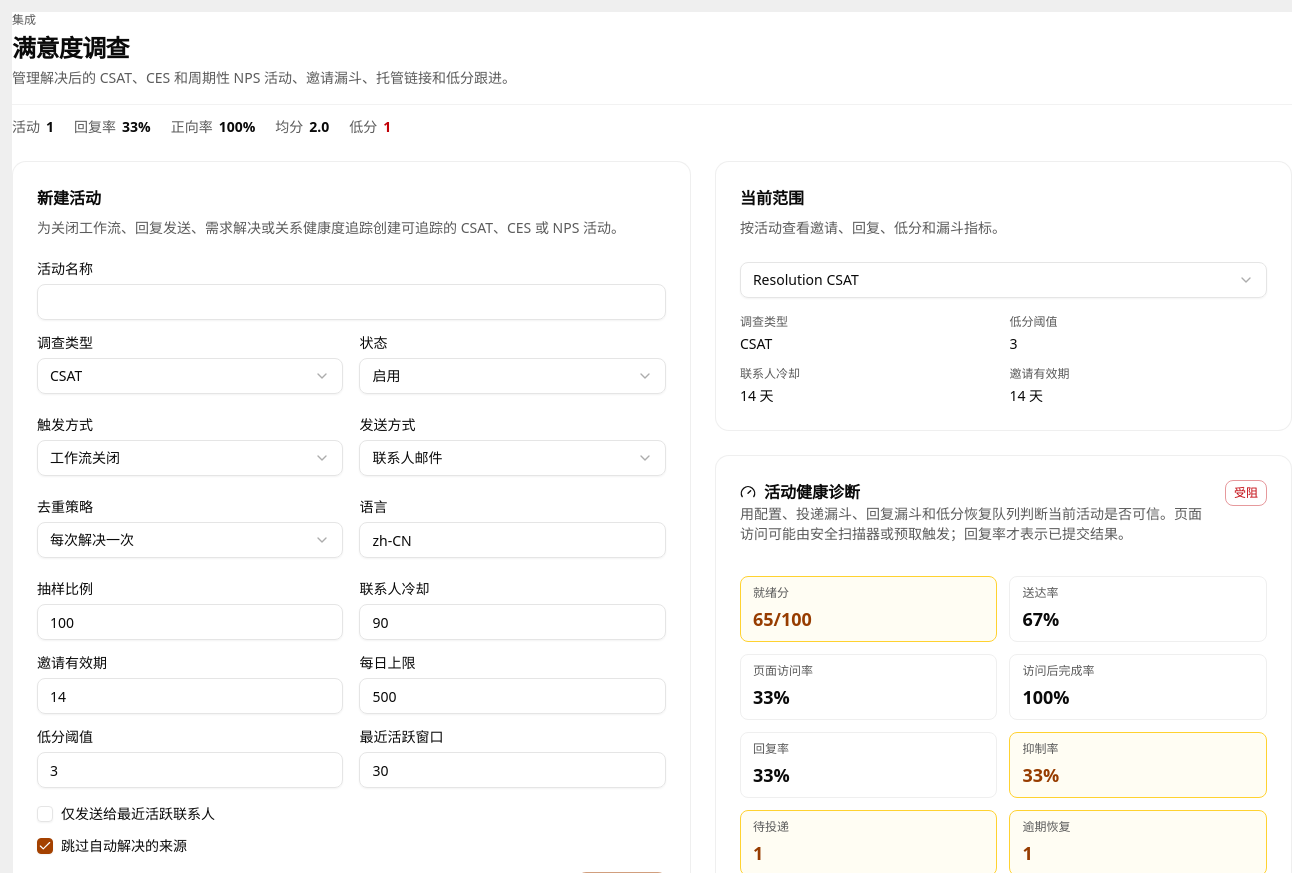
Test: SurveysPage › keeps NPS audience data separate from a warm cohort-management cache
Step 1. Click the dropdown with test id "survey-type" → (66, 376), box top-left (37, 358), bottom-right (344, 394)
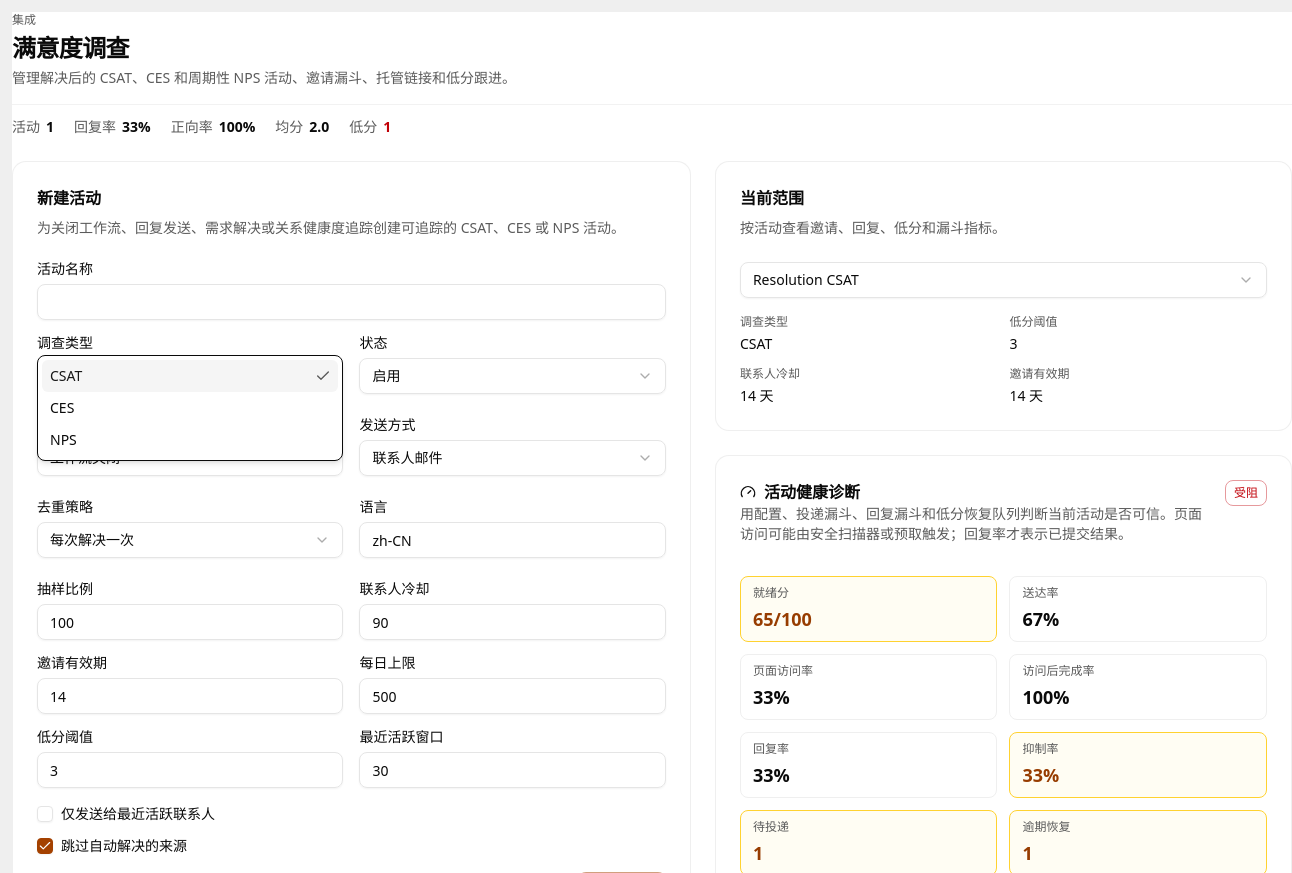
Step 2. Click the option "NPS" → (63, 440), box top-left (50, 430), bottom-right (77, 449)
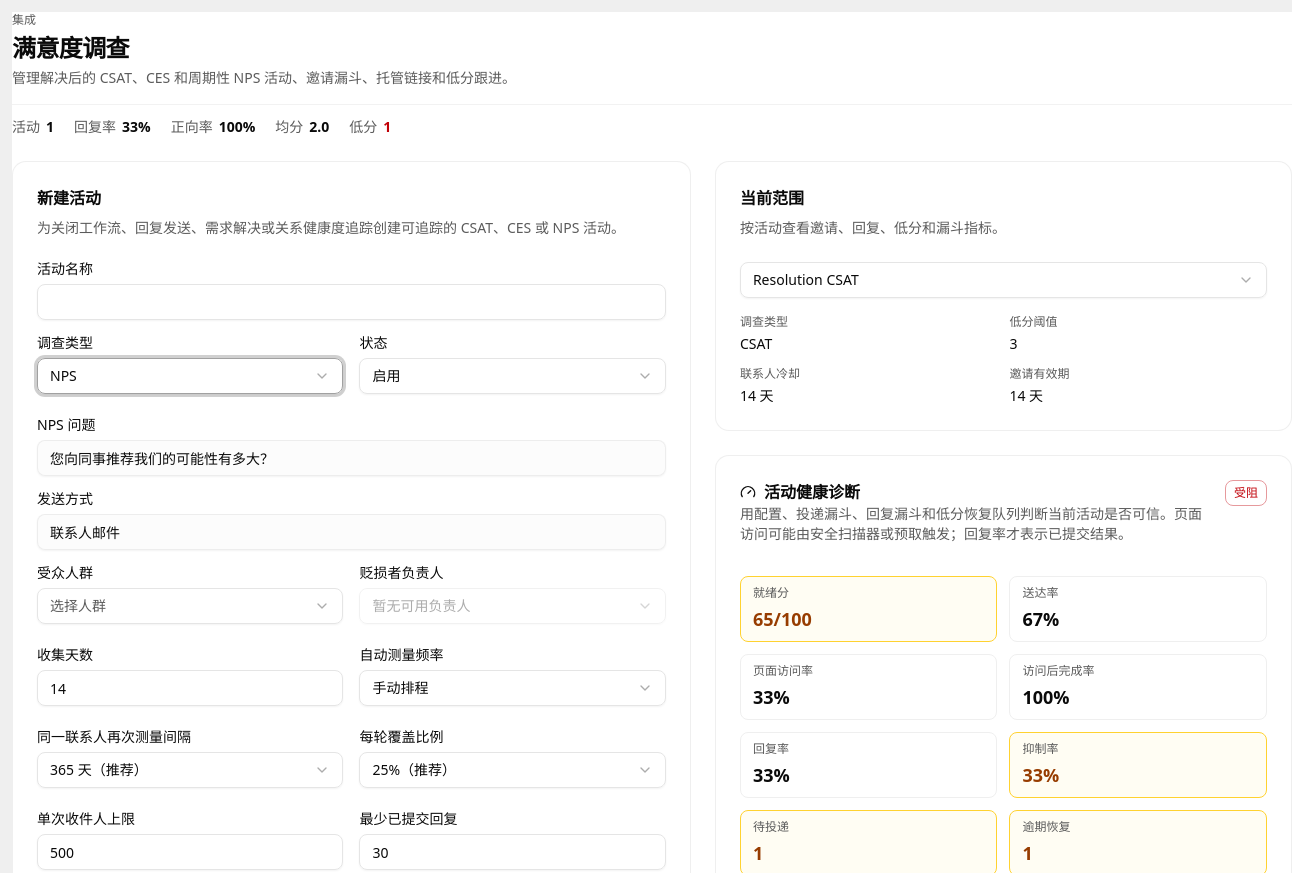
Step 3. Click the dropdown with test id "survey-nps-cohort" → (78, 606), box top-left (37, 588), bottom-right (344, 624)
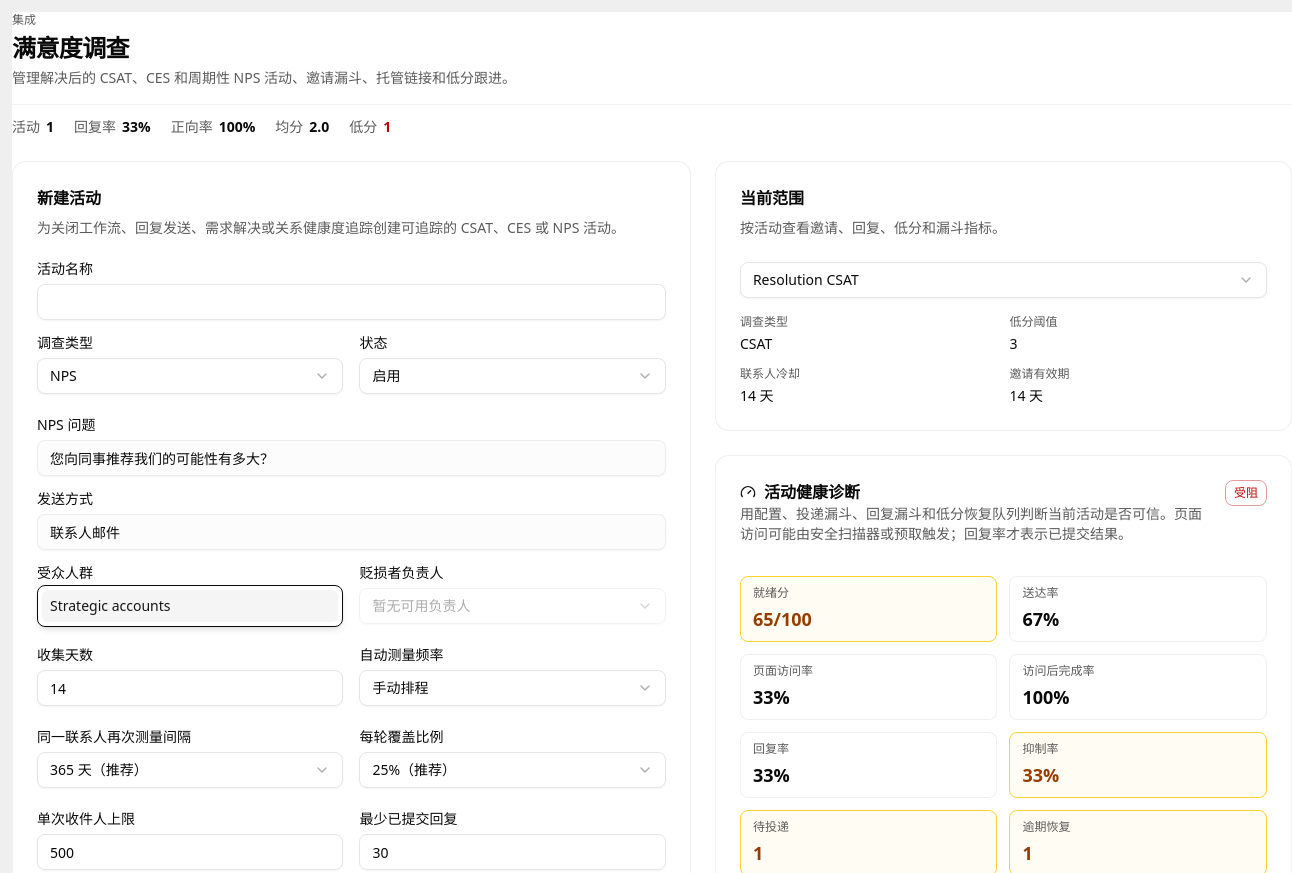
expect the option "Strategic accounts" is shown: met, box top-left (42, 590), bottom-right (338, 622)
